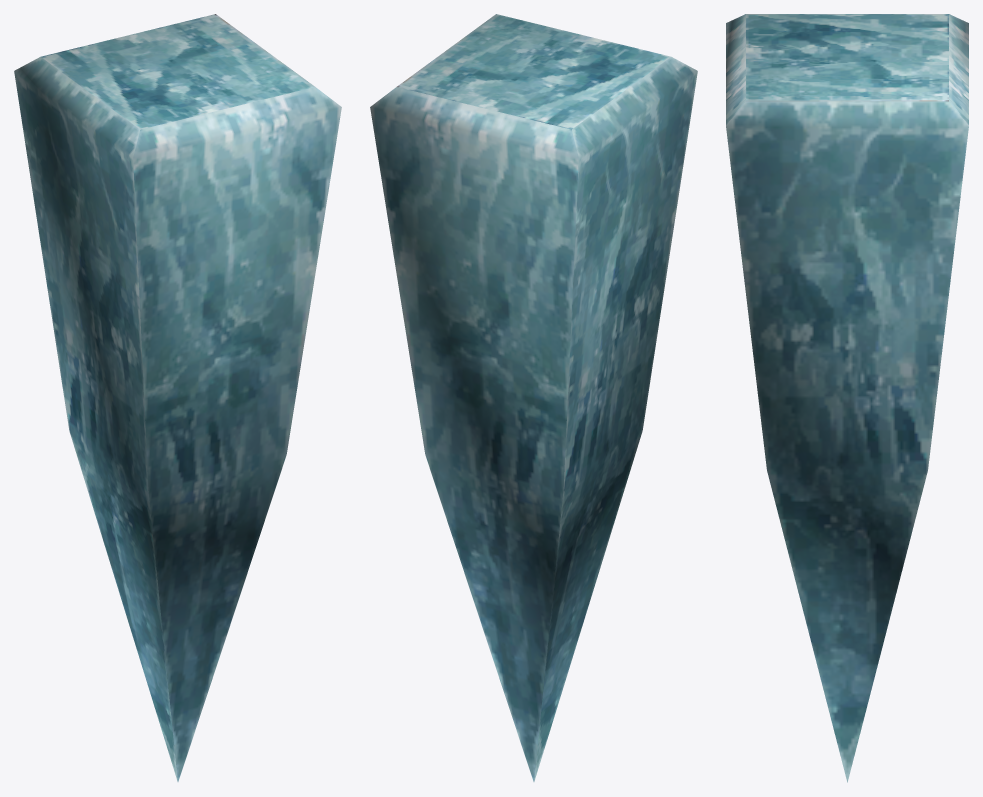
The model's file is rzjd_shuijing_03.FBX.
3 views of the same model, side by side, from view 1: azimuth 30°, elevation 25°; view 2: azimuth 150°, elevation 25°; view 3: azimuth 270°, elevation 25° (orthographic). The views are drawn at different scales.
Visible parts, largest first — view 1: rzjd_shuijing_01; view 2: rzjd_shuijing_01; view 3: rzjd_shuijing_01.
Boxes of the visible parts, x1,y1,x2,y2 form: rzjd_shuijing_01: [14, 14, 341, 781]; rzjd_shuijing_01: [370, 14, 697, 781]; rzjd_shuijing_01: [726, 14, 968, 782].
Bounding box in the file's own units: 222 × 219 × 723.
